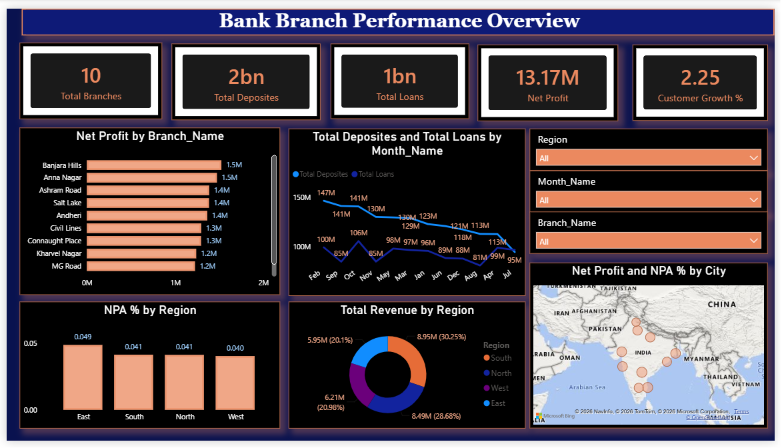

The dashboard page shown, as its layout file describes it:
{"tool":"powerbi","page":{"name":"Page 1","canvas":[1280,720],"ordinal":0},"visuals":[{"type":"textbox","title":"Bank Branch Performance Overview","box":[25.4,0,1255,44.5],"z":0},{"type":"cardVisual","fields":{"Data":["Dax Query.Total Branches"]},"box":[21.7,56.7,237,127.2],"z":1000},{"type":"cardVisual","fields":{"Data":["Dax Query.Total Loans"]},"box":[539.2,58.9,230.6,125.7],"z":2000},{"type":"cardVisual","fields":{"Data":["Dax Query.Net Profit"]},"box":[785.8,60.4,233.8,127.2],"z":3000},{"type":"cardVisual","fields":{"Data":["Dax Query.Customer Growth %"]},"box":[1043.3,60,225,126.7],"z":4000},{"type":"cardVisual","fields":{"Data":["Dax Query.Total Deposites"]},"box":[275.2,58.9,248.1,127.2],"z":5000},{"type":"clusteredBarChart","fields":{"Category":["Dim_Branch.Branch_Name"],"Y":["Dax Query.Net Profit"]},"box":[22.3,198.8,434.2,278.4],"z":6000},{"type":"lineChart","fields":{"Category":["Dim_Date.Month_Name"],"Y":["Dax Query.Total Deposites","Dax Query.Total Loans"]},"box":[469.2,200.4,394.5,278.4],"z":7000},{"type":"clusteredColumnChart","fields":{"Category":["Dim_Branch.Region"],"Y":["Dax Query.NPA %"]},"box":[22.3,488.3,434.2,211.6],"z":8000},{"type":"donutChart","fields":{"Category":["Dim_Branch.Region"],"Y":["Dax Query.Total Revenue"]},"box":[469.2,488.3,394.5,211.6],"z":9000},{"type":"map","fields":{"Category":["Dim_Branch.City"],"Size":["Dax Query.Net Profit"]},"box":[871,423.3,396.7,276],"z":10000},{"type":"slicer","fields":{"Values":["Dim_Branch.Region"]},"box":[871.7,200,396.7,70],"z":11000},{"type":"slicer","fields":{"Values":["Dim_Date.Month_Name"]},"box":[871.7,270,396.7,70],"z":12000},{"type":"slicer","fields":{"Values":["Dim_Branch.Branch_Name"]},"box":[871.7,338.3,396.7,70],"z":13000}]}

Visuals, with their boxes in screenshot pixels (x1, y1, x2, y2), scaled from the page's 1280x720 canvas onto the 781x448 screenshot:
"Bank Branch Performance Overview" textbox: 15, 0, 780, 28
cardVisual - Dax Query.Total Branches: 13, 35, 158, 114
cardVisual - Dax Query.Total Loans: 329, 37, 470, 115
cardVisual - Dax Query.Net Profit: 479, 38, 622, 117
cardVisual - Dax Query.Customer Growth %: 637, 37, 774, 116
cardVisual - Dax Query.Total Deposites: 168, 37, 319, 116
clusteredBarChart - Dim_Branch.Branch_Name x Dax Query.Net Profit: 14, 124, 279, 297
lineChart - Dim_Date.Month_Name x Dax Query.Total Deposites: 286, 125, 527, 298
clusteredColumnChart - Dim_Branch.Region x Dax Query.NPA %: 14, 304, 279, 435
donutChart - Dim_Branch.Region x Dax Query.Total Revenue: 286, 304, 527, 435
map - Dim_Branch.City x Dax Query.Net Profit: 531, 263, 773, 435
slicer - Dim_Branch.Region: 532, 124, 774, 168
slicer - Dim_Date.Month_Name: 532, 168, 774, 212
slicer - Dim_Branch.Branch_Name: 532, 210, 774, 254
